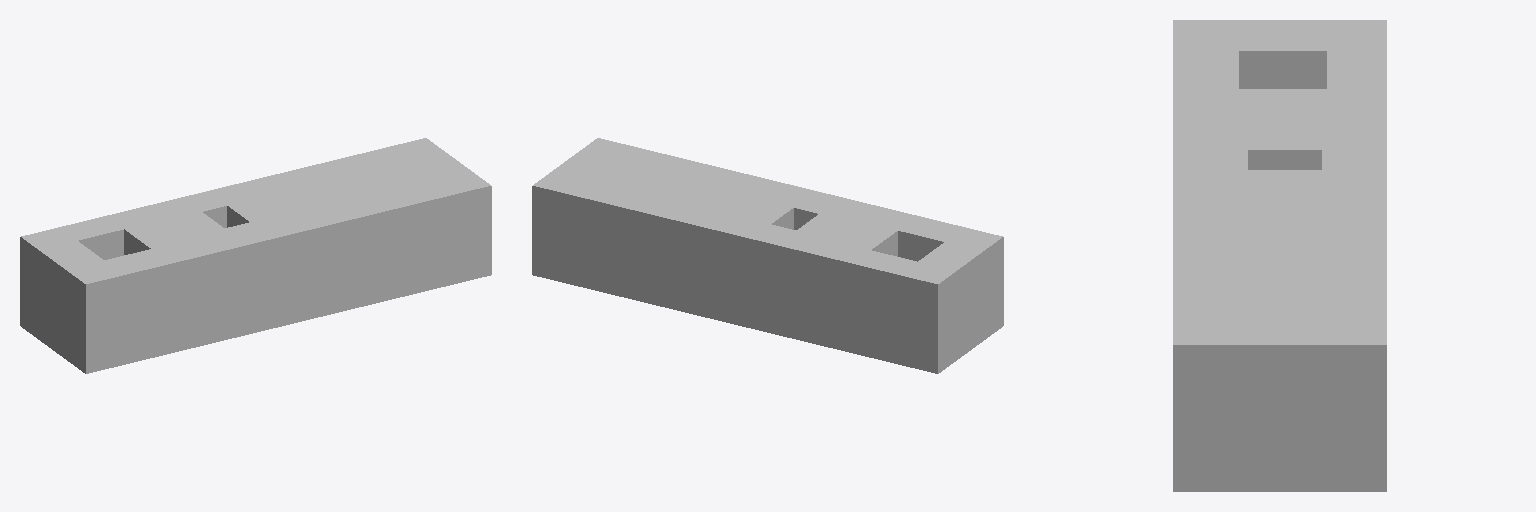
robot.urdf — insertion_box.urdf:
<?xml version="0.0" ?>
<robot name="insertion_box.urdf">
  <link name="base">
    <inertial>
      <origin rpy="0 0 0" xyz="0 0 0"/>
      <mass value="0.0"/>
      <inertia ixx="0.05" ixy="0" ixz="0" iyy="0.06" iyz="0" izz="0.03"/>
    </inertial>
  </link>

  <joint name="empty" type="fixed">
    <parent link="base"/>
    <child link="box"/>
  </joint>

  <link name="box">
    <inertial>
      <origin rpy="3.14159 0 0" xyz="0 0 0.02"/>
      <mass value="0"/>
      <inertia ixx="0.001" ixy="0" ixz="0" iyy="0.001" iyz="0" izz="0.001"/>
    </inertial>
     
     <visual>
      <origin rpy="1.57075 0 0" xyz="0 0 0"/>
      <geometry>
        <mesh filename="stl/visual/insertion_box.stl" scale="0.001 0.001 0.001"/>
      </geometry>
       <material name="white">
        <color rgba="0.8 0.8 0.8 1"/>
      </material>
    </visual>
    
    <collision concave="yes">
      <origin rpy="1.57075 0 0" xyz="0 0 0"/>
      <geometry>
           <mesh filename="stl/collision/insertion_box.stl" scale="0.001 0.001 0.001"/>
      </geometry>
    </collision>
  </link>
</robot>

--- Render facts (derived) ---
3 views of the same robot in one strip: view 1: azimuth 30°, elevation 25°; view 2: azimuth 150°, elevation 25°; view 3: azimuth 270°, elevation 25° (orthographic).
Robot: insertion_box.urdf — 2 links, 1 joints (1 fixed); root link base; default pose: all joints at 0.
Visible links, largest first — view 1: box; view 2: box; view 3: box.
Boxes of the visible links, x1,y1,x2,y2 form: box: (20, 138, 491, 373); box: (532, 138, 1003, 373); box: (1173, 20, 1386, 491).
Bounding box of the posed robot: 0.3171 × 0.0885 × 0.067 m (x, y, z).
1 mesh visuals loaded from 1 distinct referenced files (1 binary STL).